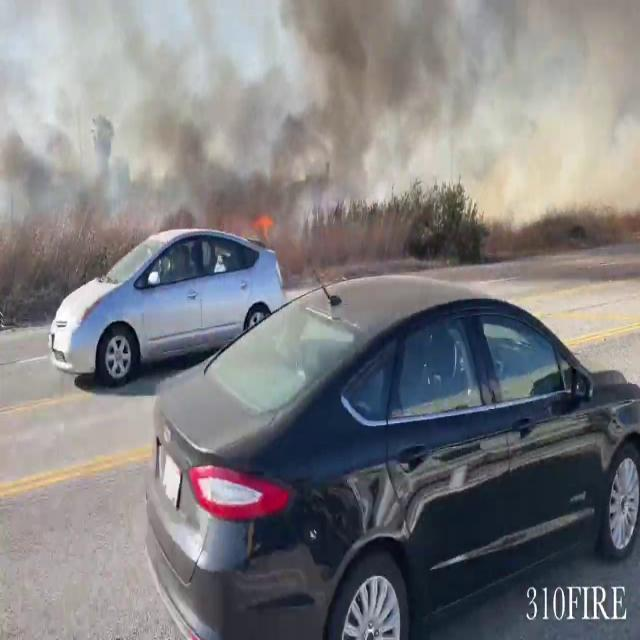Smoke: (56, 0, 640, 242), (0, 0, 455, 242)
